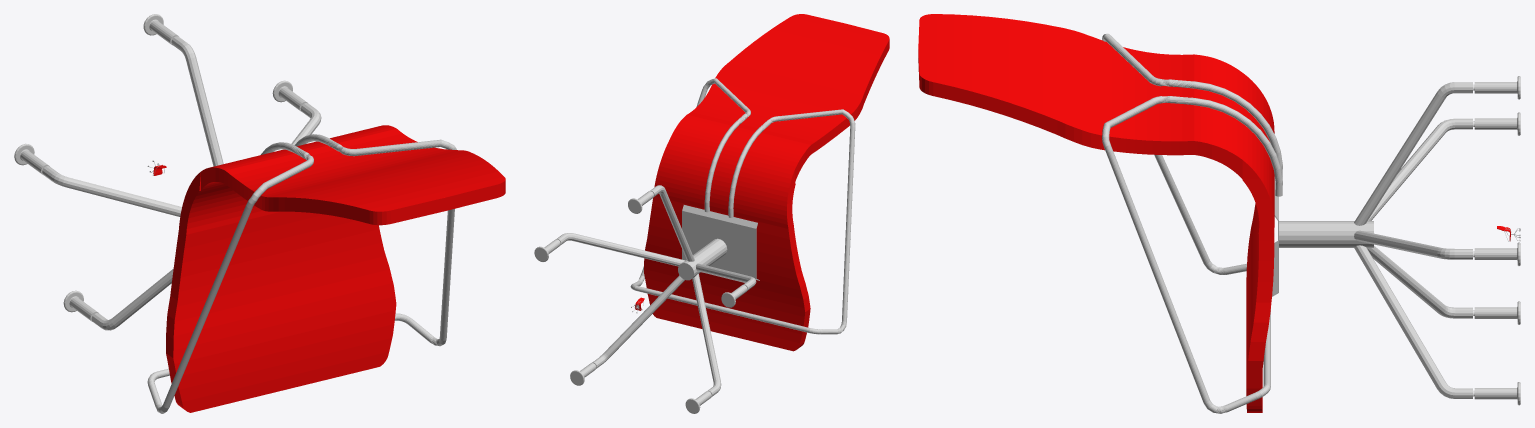
The model's file is Aeondwgtoglb.glb.
The picture shows the model from 3 angles, left to right: view 1: azimuth 30°, elevation 25°; view 2: azimuth 150°, elevation 25°; view 3: azimuth 270°, elevation 25°; orthographic projection. The views are drawn at different scales.
Parts seen in each view (by area): view 1: 286C, AC; view 2: 286C, AC; view 3: 286C, AC.
Boxes of the visible parts, left/top/right/bottom form: 286C: left=166, top=125, right=505, bottom=412; AC: left=14, top=14, right=456, bottom=413; 286C: left=644, top=14, right=889, bottom=351; AC: left=534, top=78, right=855, bottom=413; 286C: left=918, top=14, right=1274, bottom=412; AC: left=1102, top=33, right=1520, bottom=413.
Size of the model in its own units: 14.08 by 14.64 by 25.02.
